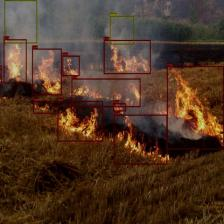fire: (167, 66, 224, 149), (114, 115, 167, 164), (72, 79, 140, 107), (58, 101, 102, 141), (104, 40, 150, 74), (32, 49, 62, 95), (4, 39, 26, 83), (62, 56, 79, 76), (33, 100, 54, 114), (113, 103, 126, 111), (0, 68, 1, 86)
smoke: (4, 0, 37, 43), (110, 16, 134, 44)
